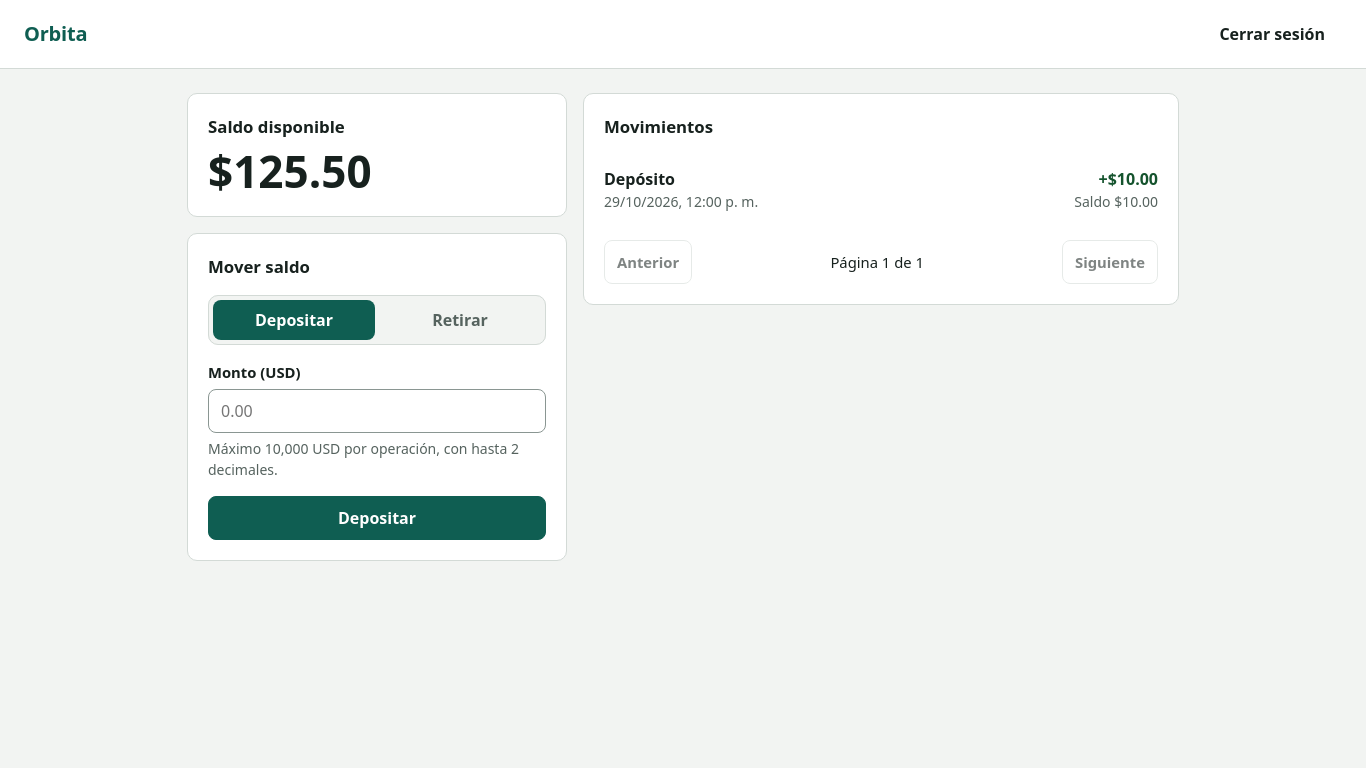
Test: depósitos y retiros › muestra un mensaje claro si el retiro supera el saldo
The width and height of the screenshot is (1366, 768).
Expected: the text "$125.50" is shown, [208,141,372,201]
Click the radio button labelled "Retirar": click(460, 320) [432,309,488,331]
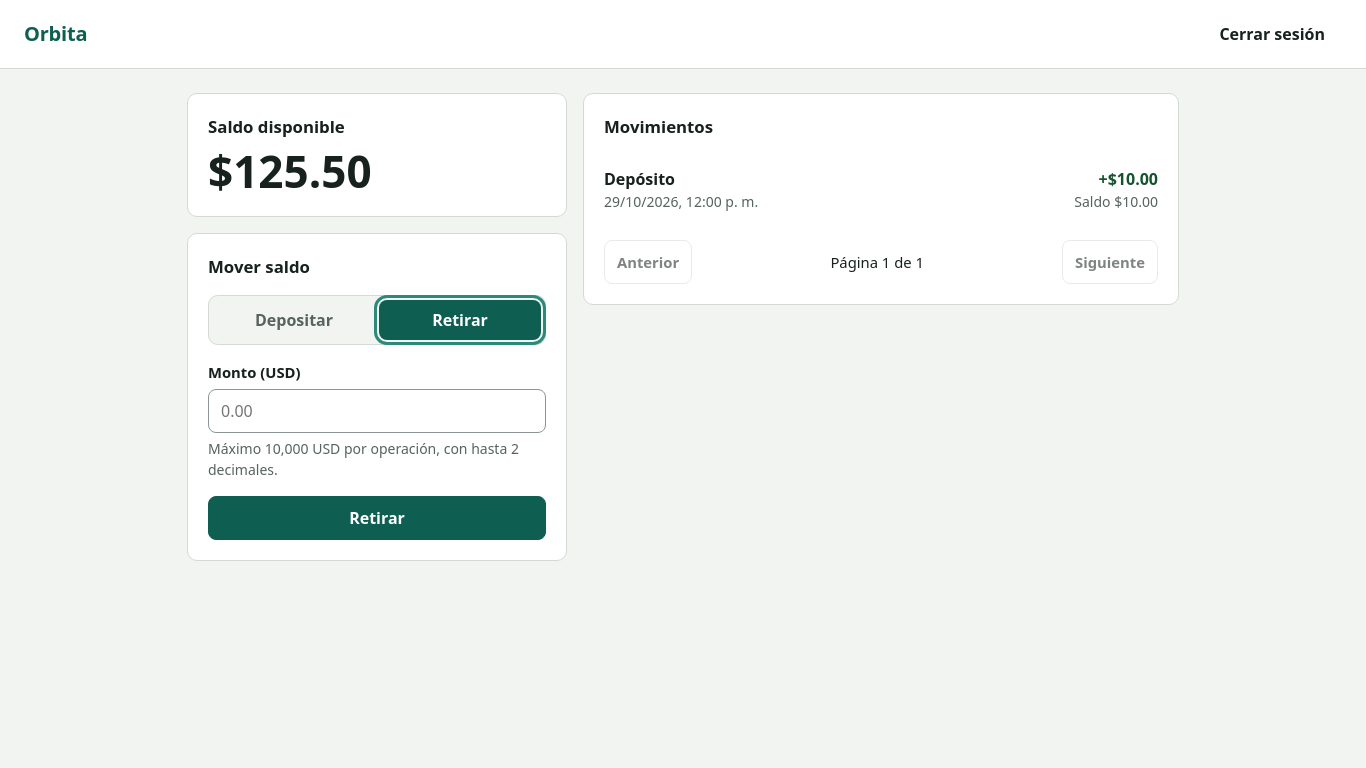
In the field labelled "Monto (USD)": (377, 410) [208,388,546,432], type "999"
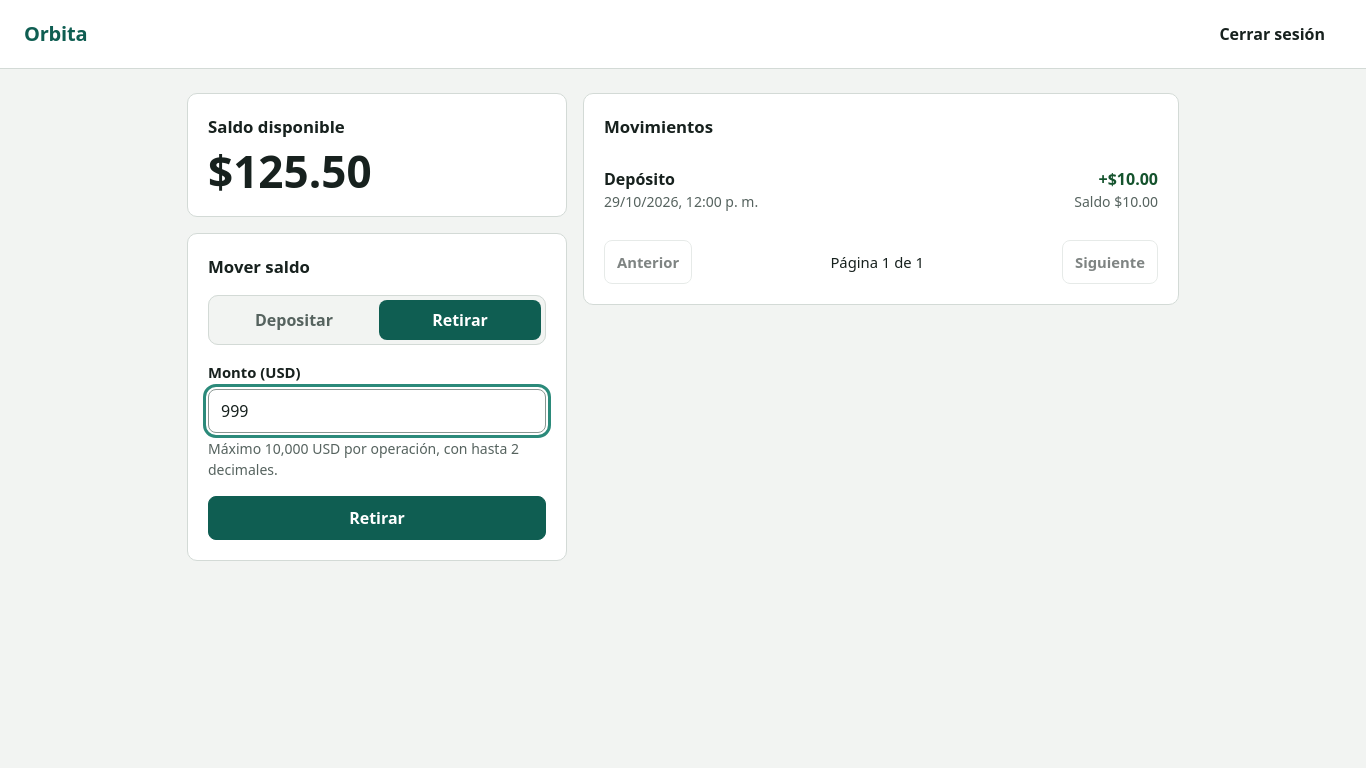
Click the button "Retirar": click(377, 518) [208,496,546,540]
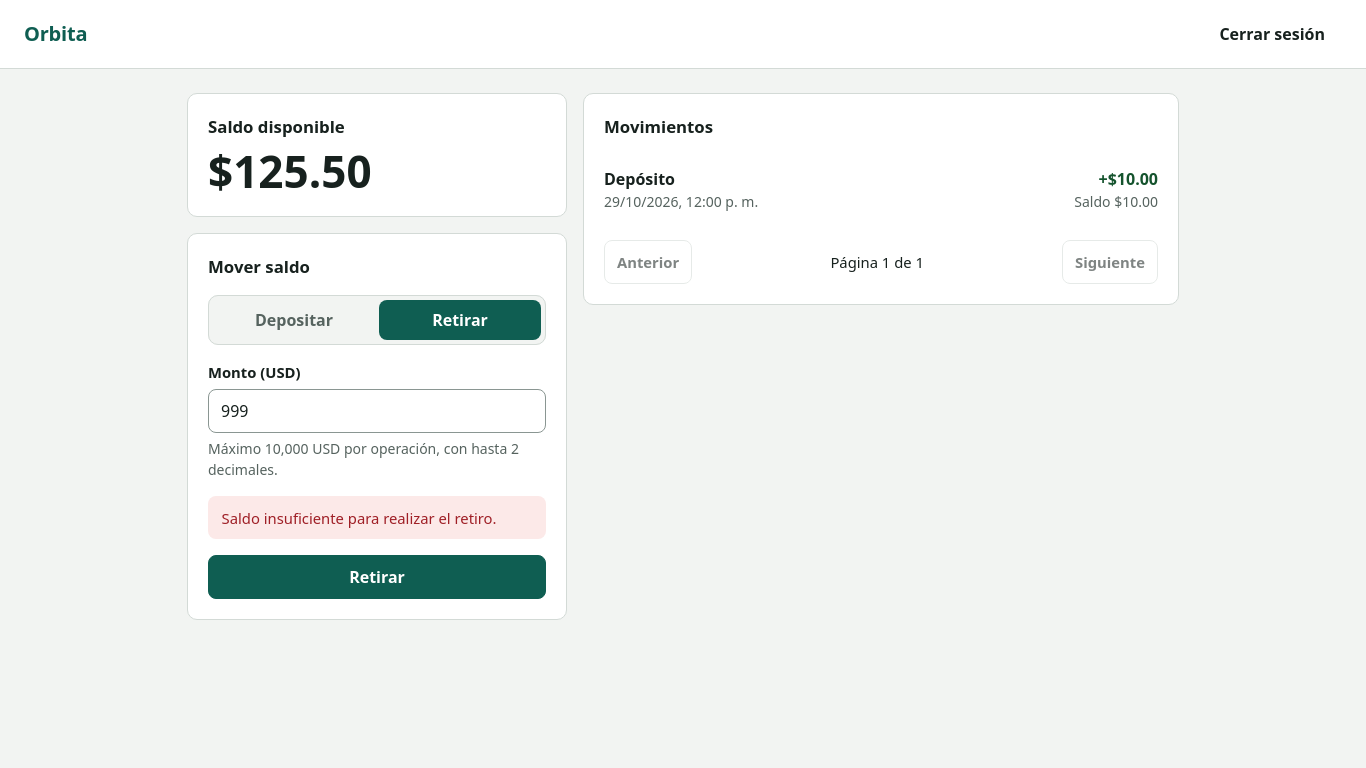
Expected: the message shows "Saldo insuficiente", [222,508,496,528]
